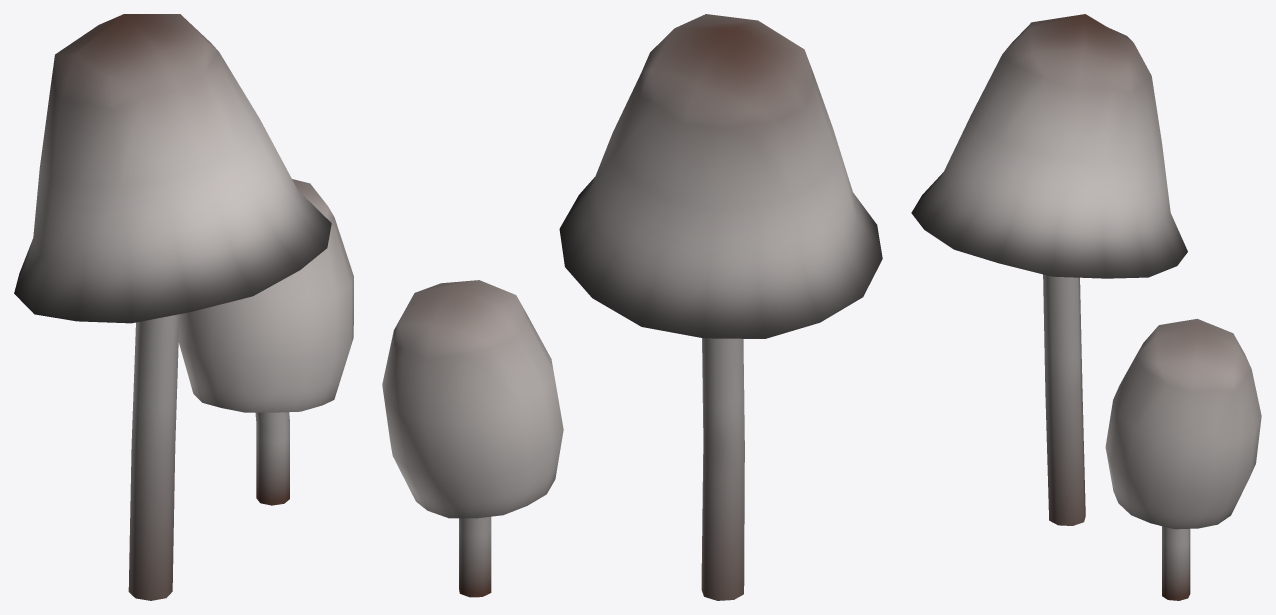
The model's file is Inky_Cap_Group_1.glb.
3 renders of one model, left to right at view 1: azimuth 30°, elevation 25°; view 2: azimuth 150°, elevation 25°; view 3: azimuth 270°, elevation 25°, orthographic. The views are drawn at different scales.
Parts seen in each view (by area): view 1: Inky_Cap_Group_1; view 2: Inky_Cap_Group_1; view 3: Inky_Cap_Group_1.
Boxes of the visible parts, x1=… form: Inky_Cap_Group_1: x1=14, y1=14, x2=353, y2=600; Inky_Cap_Group_1: x1=382, y1=14, x2=882, y2=600; Inky_Cap_Group_1: x1=911, y1=14, x2=1261, y2=600.
Bounding box in the file's own units: 0.1077 × 0.1516 × 0.0968.
Materials: 1 (1 with a texture image).
